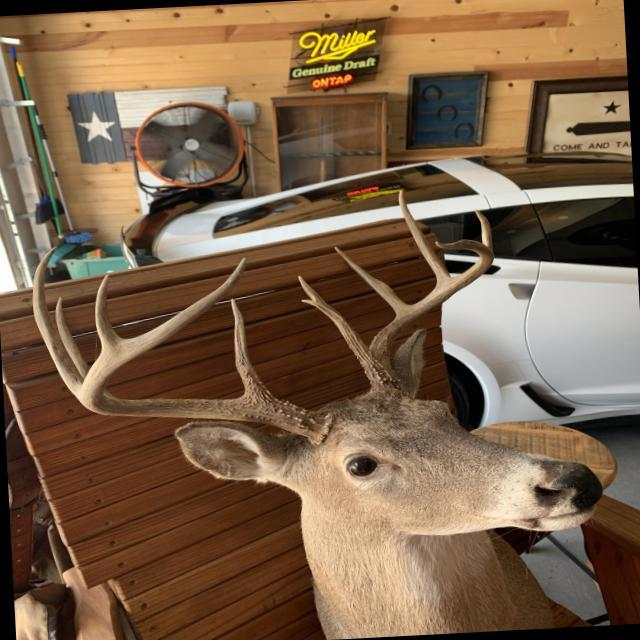E1: (301, 299, 320, 310)
E2: (475, 209, 493, 251)
L-F: (365, 240, 495, 393)
L-G1: (297, 275, 380, 371)
L-G2: (334, 246, 411, 317)
L-G3: (398, 189, 452, 285)
R-F: (80, 257, 333, 445)
R-G1: (231, 298, 275, 399)
R-G3: (32, 246, 84, 403)
R-G4: (95, 274, 126, 351)
